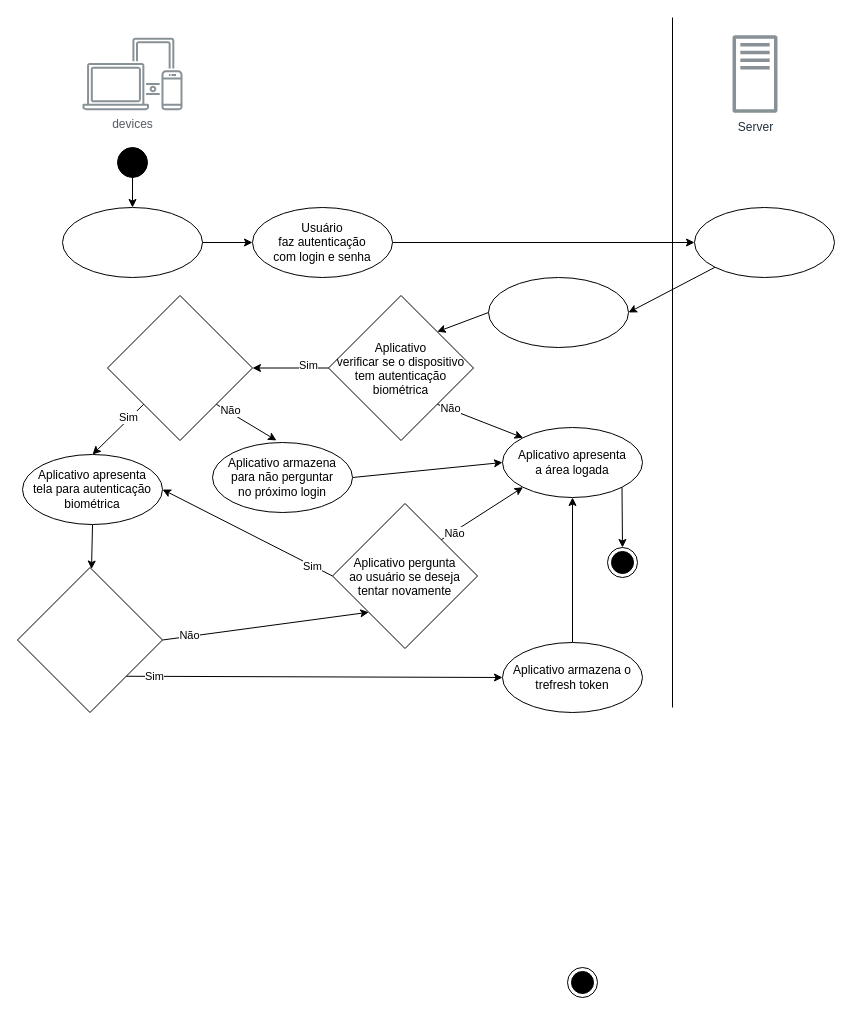
The diagram is 852 pixels wide and 1015 high, and some of its shapes have lost their labels. The centre of each missing label's shape, as x and y in pixels:
Aplicativo pergunta ao usuário se deseja usar biometria: the point at 179,367
Aplicativo recebe os dados do usuário, token e refresh token: the point at 558,312
Autentica o usuário e retorna os tokens: the point at 764,242
Usuário abre o aplicativo: the point at 132,242
Usuário autenticado biométricamente com suesso: the point at 89,639
